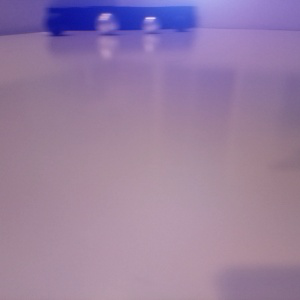alive_ball: (95, 12, 119, 35), (141, 16, 161, 33)
dead_ball: (44, 12, 68, 35), (172, 15, 188, 30)
